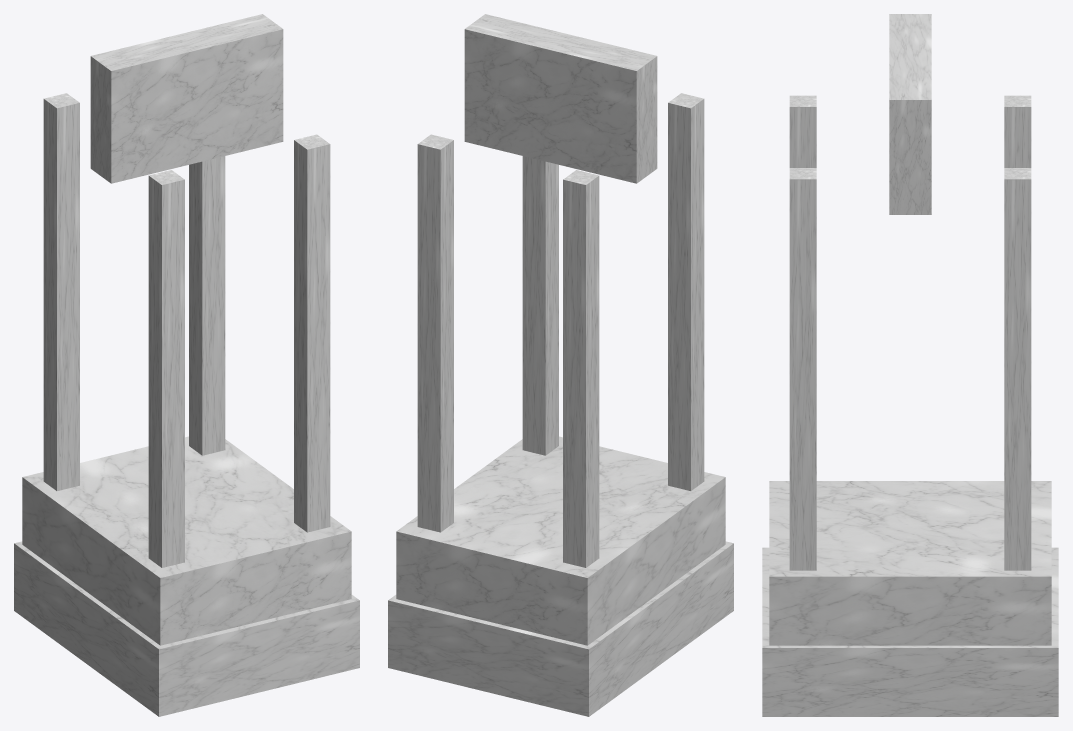
The model's file is large_temple.obj.
The picture shows the model from 3 angles, left to right: view 1: azimuth 30°, elevation 25°; view 2: azimuth 150°, elevation 25°; view 3: azimuth 270°, elevation 25°; orthographic projection. The views are drawn at different scales.
Visible parts, largest first — view 1: building; view 2: building; view 3: building.
Part boxes in pixels (bbox=[...]): building: bbox=[14, 14, 359, 716]; building: bbox=[388, 14, 733, 716]; building: bbox=[762, 14, 1058, 716].
Bounding box in the file's own units: 4.2 × 11.93 × 5.25.
